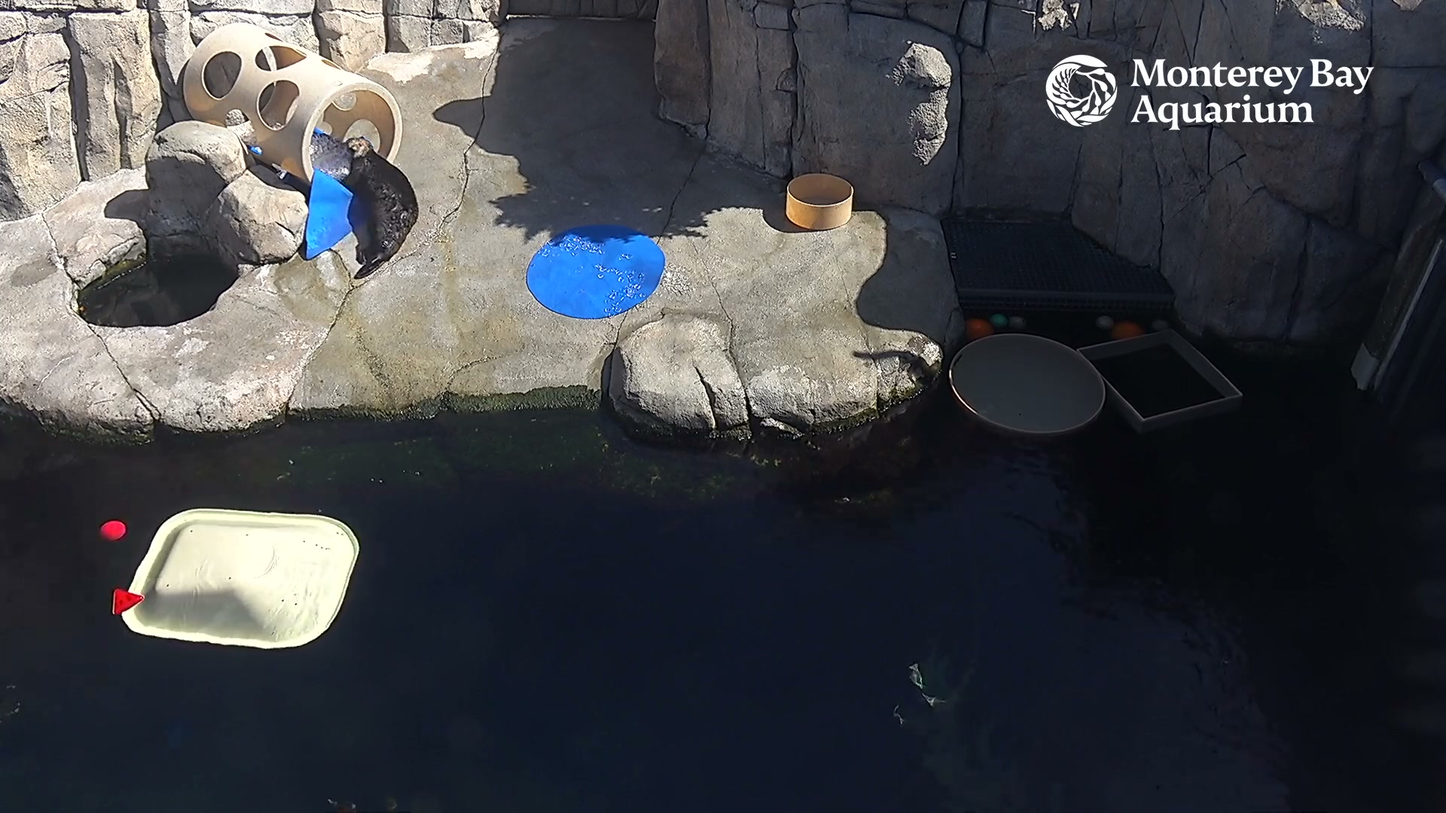Southern Sea Otter: (339, 135, 425, 299)
